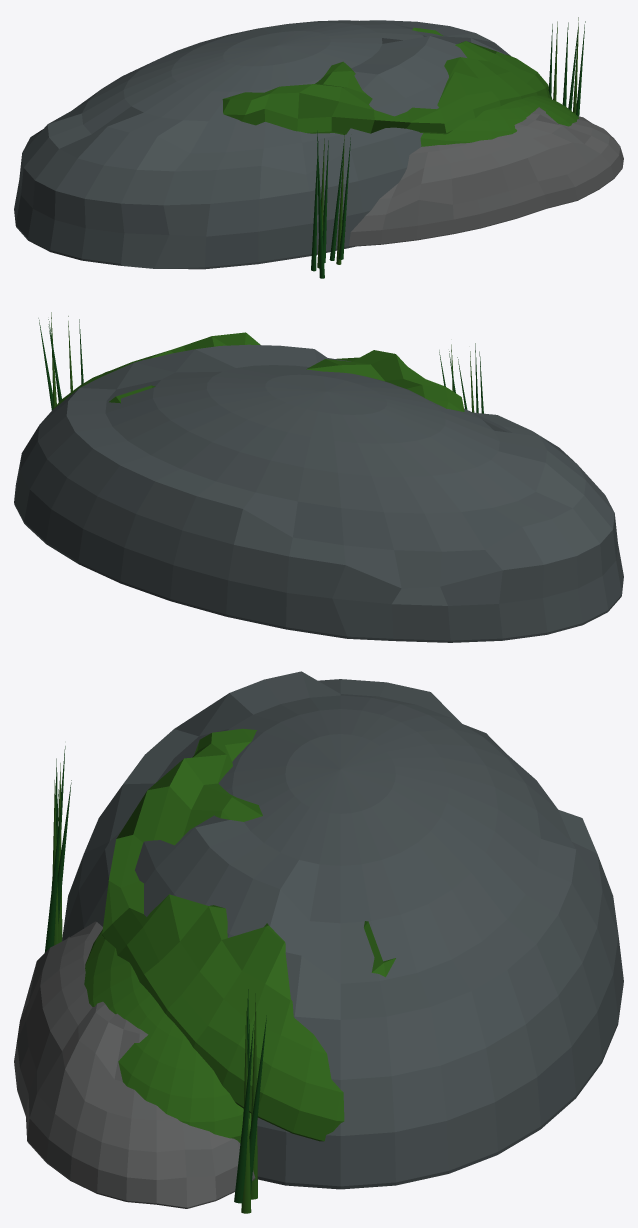
The model's file is stone_2.glb.
3 renders of one model, top to bottom at view 1: azimuth 30°, elevation 25°; view 2: azimuth 150°, elevation 25°; view 3: azimuth 270°, elevation 25°, orthographic. The views are drawn at different scales.
Parts seen in each view (by area): view 1: Sphere, Sphere.002, Sphere.003, Sphere.004, Cone.004, Cone.005, Cone, Cone.003; view 2: Sphere, Sphere.003; view 3: Sphere, Sphere.003, Sphere.002, Sphere.004, Cone.013, Cone, Cone.012.
Boxes of the visible parts, x1,y1,x2,y2 form: Sphere: [14, 20, 510, 269]; Sphere.002: [349, 107, 623, 246]; Sphere.003: [222, 27, 551, 134]; Sphere.004: [420, 95, 578, 146]; Cone.004: [317, 130, 324, 278]; Cone.005: [311, 141, 318, 271]; Cone: [338, 137, 350, 259]; Cone.003: [329, 143, 343, 260]; Sphere: [14, 344, 623, 642]; Sphere.003: [54, 332, 464, 411]; Sphere: [62, 671, 623, 1189]; Sphere.003: [102, 728, 395, 1141]; Sphere.002: [14, 921, 255, 1208]; Sphere.004: [84, 929, 251, 1142]; Cone.013: [234, 1025, 253, 1203]; Cone: [44, 794, 62, 952]; Cone.012: [241, 1011, 251, 1213].
Bounding box in the file's own units: 0.5584 × 0.1538 × 0.3416.
